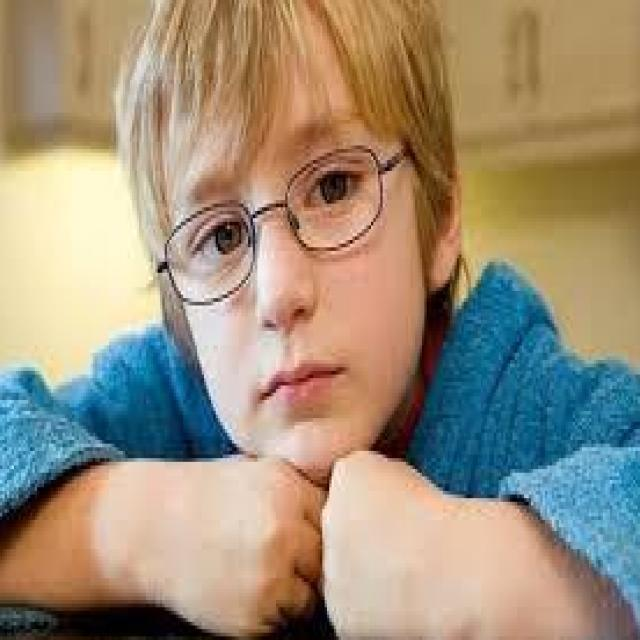Glasses: (139, 138, 413, 305)
